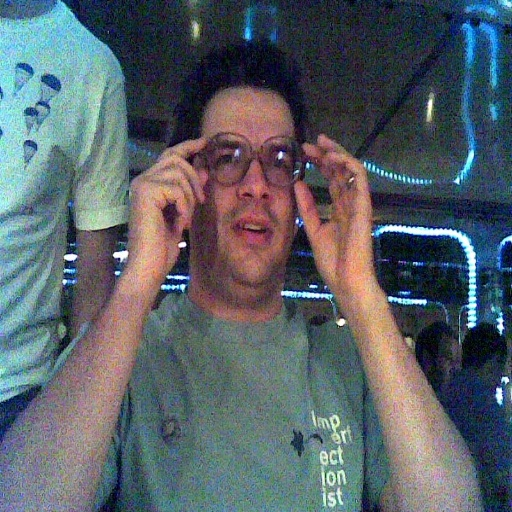hand: (293, 128, 375, 292), (129, 135, 209, 282)
